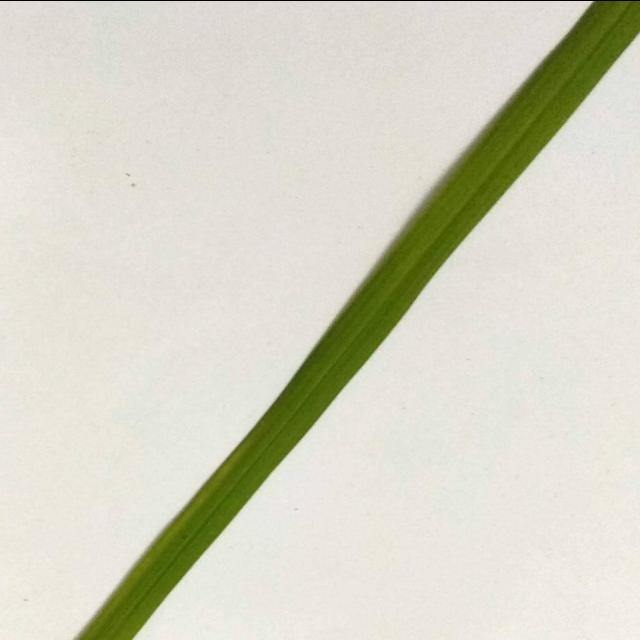healthy: (80, 2, 640, 640)
